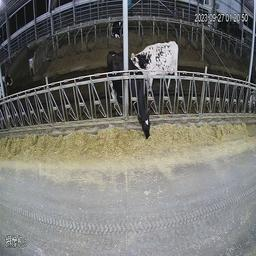cow: (106, 48, 149, 141), (116, 41, 171, 89), (1, 62, 22, 93), (109, 17, 123, 39)
